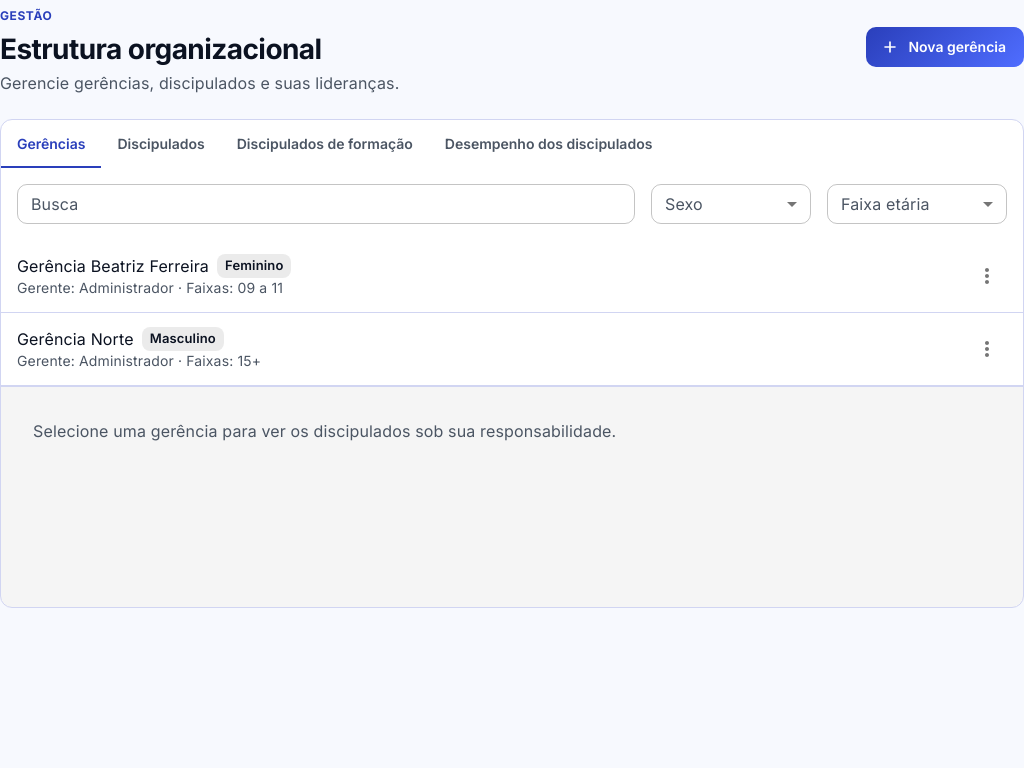
Test case: estrutura organizacional — co-líderes › exclui gerência sem discipulados associados
Expected: the text "Gerência Norte" is shown, x1=17 y1=327 x2=134 y2=351
Click the button named "Ações de Gerência Norte" at (987, 349), box x1=967 y1=329 x2=1007 y2=369
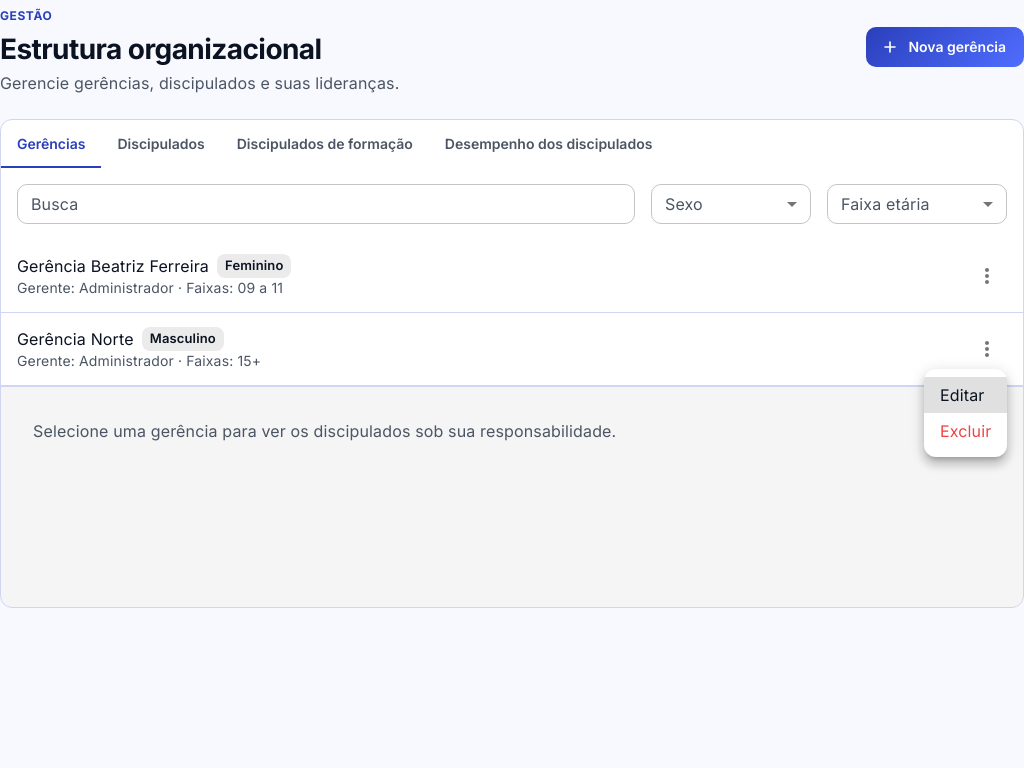
Click the menu item "Excluir" at (966, 431), box x1=940 y1=421 x2=991 y2=441
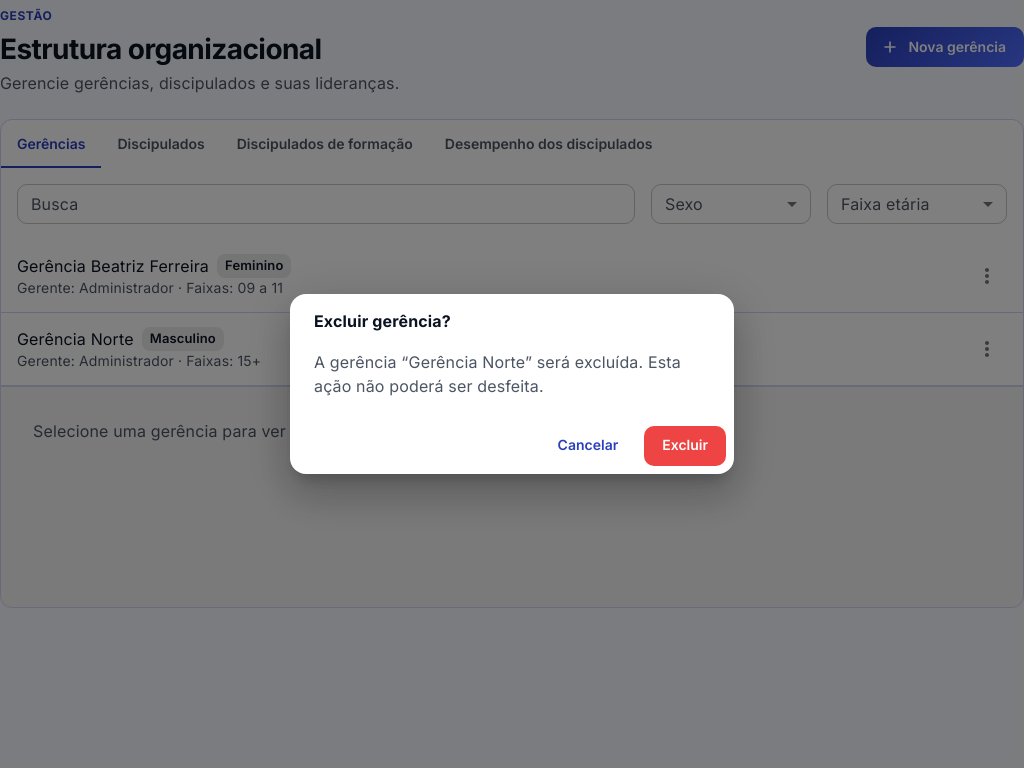
Expected: the heading "Excluir gerência?" is shown, x1=314 y1=311 x2=451 y2=331
Click the button "Excluir" at (685, 446), box x1=644 y1=426 x2=726 y2=466
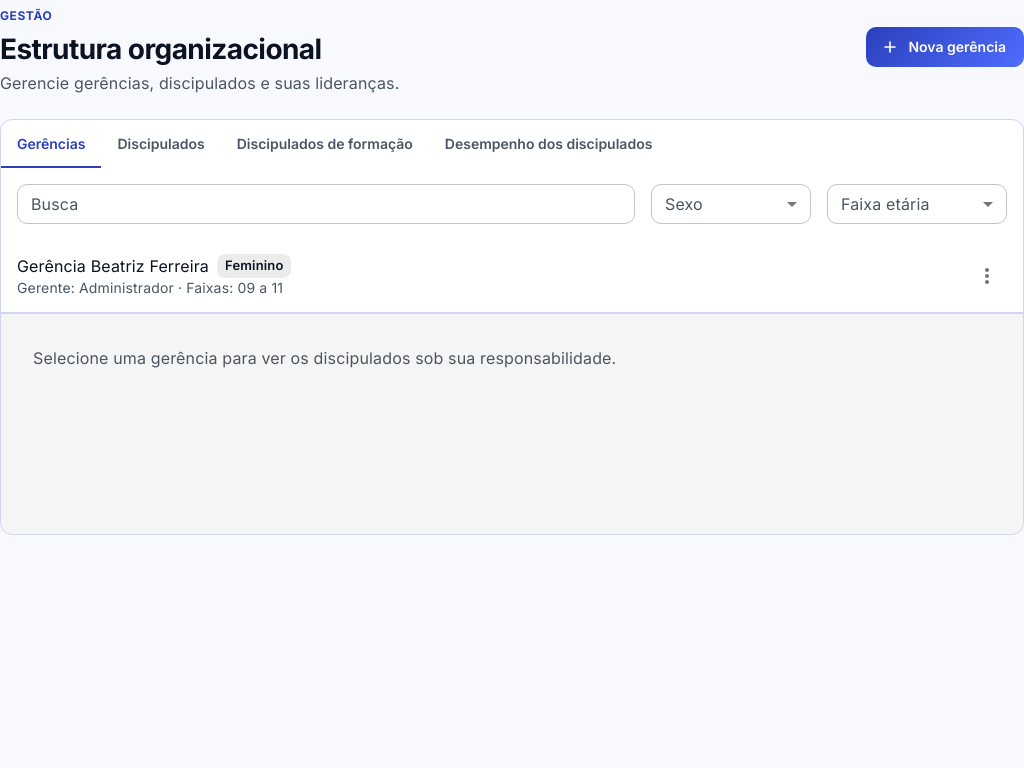
Expected: the button "Gerência Norte" is gone
